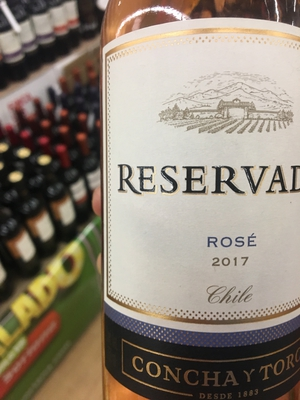reservado rose: (100, 4, 300, 393)
